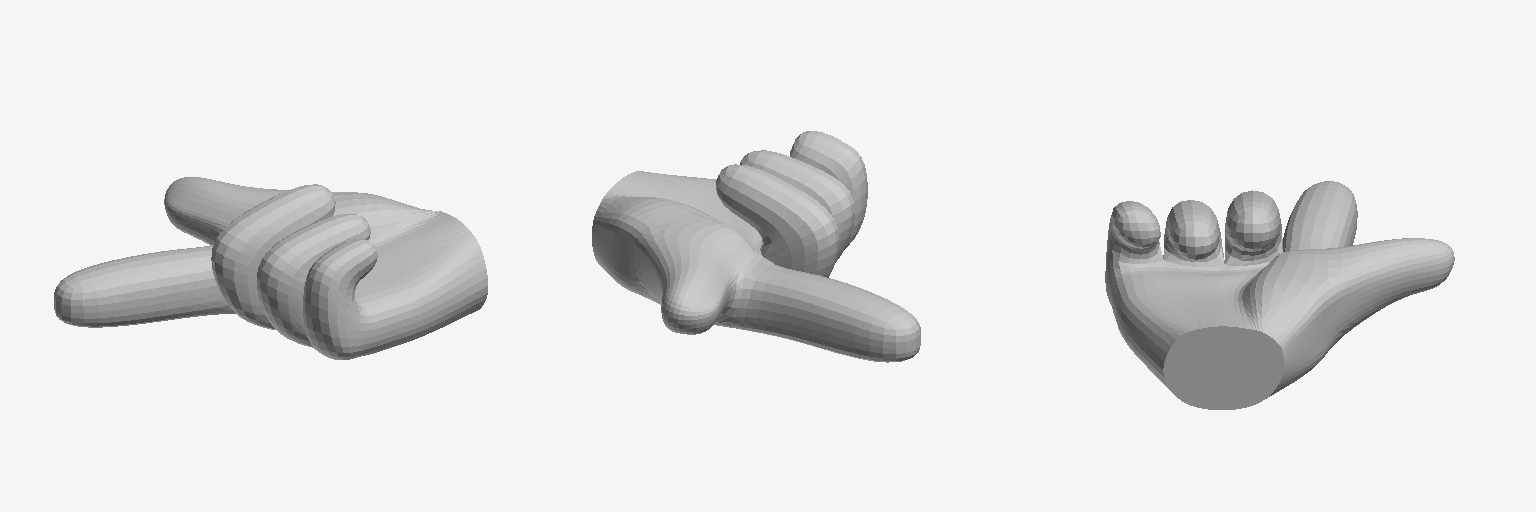
3 renders of one model, left to right at view 1: azimuth 30°, elevation 25°; view 2: azimuth 150°, elevation 25°; view 3: azimuth 270°, elevation 25°, orthographic.
Parts seen in each view (by area): view 1: L_Hand; view 2: L_Hand; view 3: L_Hand.
Part boxes in pixels (bbox=[...]): L_Hand: bbox=[54, 177, 487, 359]; L_Hand: bbox=[592, 131, 920, 362]; L_Hand: bbox=[1105, 181, 1454, 409].
Size of the model in its own units: 176 by 67.16 by 153.